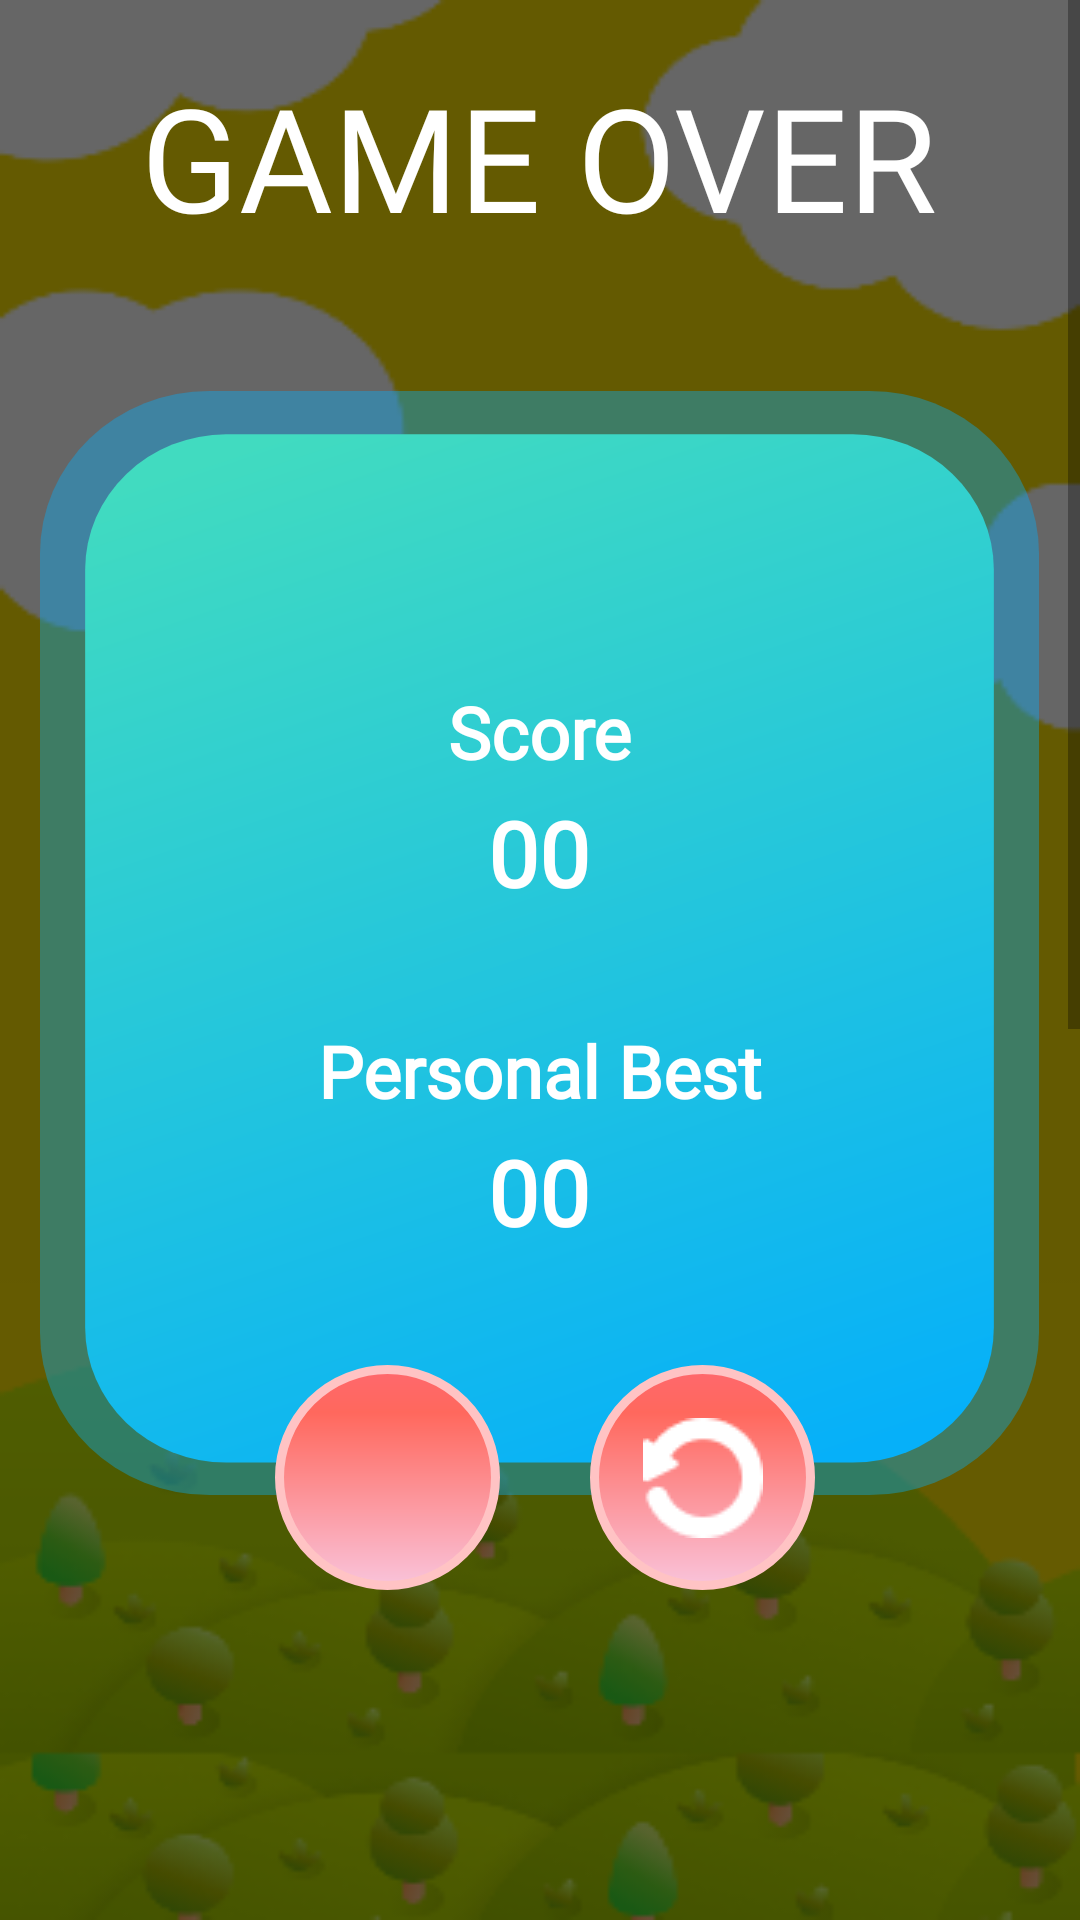

Named icons in this screenshot (1080px x 1920px) and their centers, (x=x, y=y):
repeat: (x=702, y=1477)
